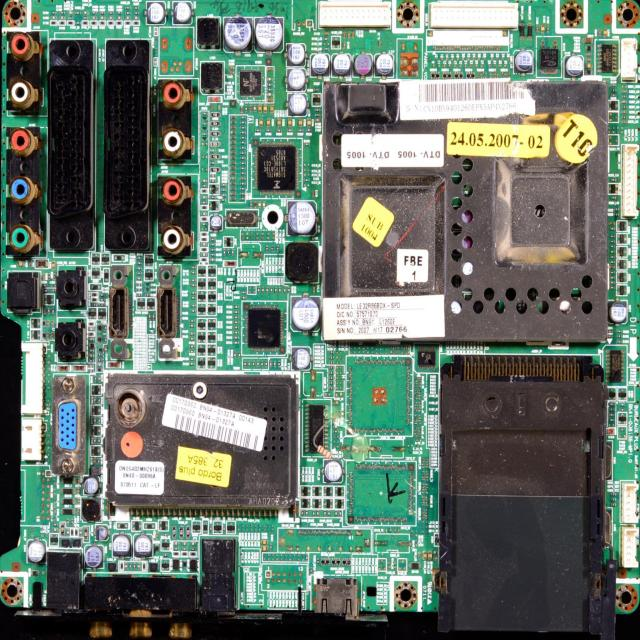Capacitor: (286, 42, 307, 66), (331, 52, 352, 76), (287, 94, 309, 115), (355, 52, 373, 77), (376, 52, 394, 77), (286, 69, 307, 90), (310, 55, 328, 75), (286, 118, 294, 129), (582, 37, 593, 44), (422, 550, 428, 562), (262, 102, 268, 114), (306, 117, 312, 128), (258, 117, 264, 128), (310, 286, 318, 294), (428, 550, 433, 562), (276, 118, 282, 128), (200, 193, 208, 200), (16, 260, 24, 267), (270, 103, 274, 116), (298, 117, 303, 127), (266, 118, 271, 128), (200, 252, 210, 257), (603, 28, 608, 38), (342, 30, 347, 40), (260, 538, 268, 544), (239, 105, 244, 114), (245, 231, 250, 240), (258, 104, 262, 115), (266, 66, 273, 72), (260, 546, 268, 551), (585, 57, 593, 62), (226, 66, 236, 70), (312, 188, 316, 198), (255, 230, 259, 240), (229, 172, 238, 176), (609, 178, 618, 182), (260, 231, 264, 240), (116, 15, 123, 20), (77, 486, 81, 494), (76, 506, 80, 514), (155, 532, 159, 540), (266, 97, 274, 101), (620, 120, 628, 124), (229, 140, 237, 144), (90, 15, 98, 19), (132, 16, 140, 20), (229, 187, 237, 191), (229, 192, 237, 196), (51, 261, 55, 269), (42, 272, 46, 280), (546, 24, 550, 32), (266, 77, 272, 82), (100, 15, 106, 20), (76, 477, 80, 484), (230, 116, 237, 120), (230, 120, 237, 124), (230, 131, 237, 135), (230, 146, 237, 150), (230, 151, 237, 155), (230, 156, 237, 160), (229, 161, 236, 165), (229, 182, 236, 186), (230, 197, 237, 201), (28, 260, 32, 267), (50, 332, 54, 339), (322, 32, 329, 36), (228, 136, 237, 139), (93, 458, 96, 466), (77, 496, 80, 504), (585, 53, 591, 57), (227, 72, 235, 75), (621, 90, 629, 93), (621, 110, 627, 114), (50, 16, 56, 20), (230, 177, 236, 181), (609, 222, 615, 226), (250, 231, 253, 239), (267, 231, 270, 239), (272, 232, 275, 240), (609, 265, 615, 269), (314, 118, 321, 121), (230, 126, 237, 129), (621, 100, 626, 104), (60, 15, 65, 19), (230, 167, 236, 170), (108, 16, 114, 19), (352, 31, 354, 40), (265, 93, 273, 95), (250, 104, 252, 112), (126, 16, 130, 20), (242, 232, 244, 240), (210, 258, 214, 262)
Connector: (47, 43, 99, 256), (2, 34, 51, 257), (114, 49, 152, 244), (156, 81, 198, 254), (88, 577, 194, 639), (426, 2, 522, 29), (312, 575, 363, 623), (316, 0, 392, 30), (18, 338, 42, 412), (21, 419, 46, 464), (621, 36, 639, 81), (620, 479, 638, 523), (622, 524, 640, 568)
IC: (243, 301, 286, 355), (304, 399, 330, 456), (596, 40, 618, 76), (416, 344, 438, 370)
Resistor Network: (310, 509, 316, 518), (238, 181, 248, 186), (264, 243, 269, 253), (296, 128, 304, 134), (607, 402, 616, 407), (134, 265, 143, 270), (187, 318, 196, 323), (231, 340, 240, 345), (240, 294, 247, 300), (189, 294, 196, 300), (300, 508, 304, 518), (333, 510, 338, 518), (66, 516, 70, 526), (122, 5, 130, 10), (286, 129, 294, 134), (239, 140, 247, 145), (607, 249, 615, 254), (134, 272, 144, 276), (134, 277, 144, 281), (134, 288, 144, 292), (232, 334, 240, 339), (188, 343, 196, 348), (188, 355, 196, 360), (322, 508, 326, 517), (316, 509, 320, 518), (305, 552, 309, 561), (264, 128, 273, 132), (304, 142, 310, 148), (614, 206, 620, 212), (105, 270, 108, 282), (190, 308, 196, 314), (616, 328, 622, 334), (181, 546, 188, 551), (239, 125, 246, 130), (190, 264, 197, 269), (98, 296, 105, 301), (233, 314, 240, 319), (188, 330, 195, 335), (271, 243, 274, 254), (276, 244, 279, 255), (332, 429, 340, 433), (132, 562, 136, 570), (313, 108, 321, 112), (312, 113, 320, 117), (50, 10, 58, 14), (254, 129, 262, 133), (239, 161, 247, 165), (68, 15, 76, 19), (302, 179, 310, 183), (200, 222, 208, 226), (135, 282, 143, 286), (282, 286, 286, 294), (274, 286, 278, 294), (188, 303, 196, 307), (232, 330, 240, 334), (188, 337, 196, 341), (252, 358, 255, 368), (328, 386, 334, 391), (240, 115, 246, 120), (240, 171, 246, 176), (240, 196, 246, 201), (136, 255, 142, 260), (136, 260, 142, 265), (234, 319, 240, 324), (188, 348, 194, 353), (88, 348, 94, 353), (328, 360, 335, 364), (256, 360, 260, 367), (128, 561, 132, 568), (239, 151, 246, 155), (220, 182, 227, 186), (220, 188, 227, 192), (189, 278, 196, 282), (190, 283, 197, 287), (190, 290, 197, 294), (233, 326, 240, 330), (88, 337, 95, 341), (328, 350, 335, 354), (328, 355, 335, 359), (273, 359, 276, 368), (71, 517, 74, 526), (189, 361, 194, 366), (210, 237, 215, 242), (248, 359, 251, 367), (328, 365, 334, 369), (88, 368, 94, 372), (328, 371, 334, 375), (97, 397, 101, 403), (608, 412, 614, 416), (339, 509, 342, 517), (190, 546, 196, 550), (309, 566, 312, 574), (610, 82, 616, 86), (266, 88, 272, 92), (76, 10, 80, 16), (134, 11, 140, 15), (276, 128, 282, 132), (240, 131, 246, 135), (240, 136, 246, 140), (238, 167, 246, 170), (239, 177, 247, 180), (201, 184, 207, 188), (219, 193, 227, 196), (210, 195, 216, 199), (76, 20, 80, 26), (608, 227, 614, 231), (609, 234, 615, 238), (201, 242, 207, 246), (210, 243, 216, 247), (227, 248, 230, 256), (609, 260, 615, 264), (610, 269, 616, 273), (190, 270, 194, 276), (266, 286, 269, 294), (270, 286, 273, 294), (134, 292, 140, 296), (145, 292, 151, 296), (99, 292, 105, 296), (51, 308, 55, 314), (188, 324, 194, 328), (607, 328, 613, 332), (606, 335, 614, 338), (616, 334, 622, 338), (238, 350, 241, 358), (234, 351, 237, 359), (88, 358, 94, 362), (261, 360, 264, 367), (96, 368, 103, 371), (93, 437, 96, 444), (97, 457, 100, 464), (107, 12, 114, 15), (239, 187, 246, 190), (239, 192, 246, 195), (231, 248, 234, 255), (223, 248, 226, 255), (48, 307, 51, 314), (233, 310, 240, 313), (148, 313, 151, 320), (620, 403, 625, 407), (97, 438, 101, 443), (134, 6, 139, 10), (116, 10, 121, 14), (614, 213, 619, 217), (209, 247, 214, 251), (279, 285, 281, 295), (92, 292, 97, 296), (234, 304, 239, 308), (88, 364, 94, 367), (328, 376, 334, 379), (619, 407, 625, 410), (608, 418, 614, 421), (328, 508, 330, 517), (270, 543, 273, 549), (172, 547, 178, 550), (266, 83, 272, 86), (59, 11, 65, 14), (124, 12, 130, 15), (240, 146, 246, 149), (240, 157, 246, 160), (220, 198, 226, 201), (201, 201, 207, 204), (202, 213, 208, 216), (608, 245, 614, 248), (609, 255, 615, 258), (609, 276, 615, 279), (609, 281, 615, 284), (288, 285, 290, 294), (240, 290, 246, 293), (616, 340, 622, 343), (97, 353, 103, 356), (97, 358, 103, 361), (244, 359, 246, 367), (266, 360, 268, 368), (306, 508, 308, 516), (245, 104, 247, 112), (43, 283, 47, 287), (262, 286, 264, 294), (258, 286, 260, 294), (153, 312, 155, 320), (92, 303, 97, 306), (94, 396, 96, 403), (270, 361, 272, 367), (328, 382, 334, 384), (94, 417, 96, 423), (98, 417, 100, 423), (52, 523, 58, 525), (610, 94, 616, 96), (91, 12, 97, 14), (100, 11, 104, 14), (306, 129, 312, 131), (610, 240, 614, 243), (211, 252, 215, 255), (610, 286, 614, 289), (91, 298, 97, 300), (88, 328, 94, 330), (240, 122, 245, 124)
Transistor: (606, 347, 627, 383), (615, 219, 627, 232), (49, 532, 60, 546), (615, 257, 627, 269), (331, 36, 341, 50), (226, 520, 236, 534), (144, 268, 154, 282), (616, 233, 628, 244), (29, 318, 41, 329), (207, 318, 217, 331), (214, 520, 223, 534), (198, 264, 207, 278), (208, 264, 217, 278), (616, 284, 627, 295), (196, 356, 206, 368), (90, 406, 102, 416), (323, 485, 333, 497), (197, 278, 207, 290), (207, 278, 217, 290), (206, 332, 216, 344), (607, 386, 616, 399), (618, 387, 627, 400), (161, 537, 170, 550), (161, 558, 170, 571), (144, 254, 153, 267), (91, 385, 102, 395), (90, 445, 101, 455), (191, 521, 201, 532), (608, 183, 618, 194), (616, 272, 627, 282), (196, 304, 207, 314), (206, 344, 216, 355), (207, 291, 216, 303), (197, 344, 206, 356), (91, 425, 101, 435), (312, 486, 322, 496), (608, 100, 618, 110), (616, 246, 626, 256), (301, 486, 312, 495), (335, 498, 344, 509), (312, 94, 321, 105), (137, 298, 146, 309), (618, 413, 626, 425), (92, 253, 100, 265), (102, 253, 110, 265), (92, 266, 100, 278), (198, 318, 206, 330), (30, 331, 42, 339), (335, 486, 344, 496), (301, 498, 311, 507), (312, 498, 321, 508), (323, 499, 333, 508), (132, 520, 141, 530), (207, 357, 215, 368), (146, 298, 154, 309), (98, 308, 106, 319), (89, 308, 96, 320), (207, 305, 216, 314), (160, 520, 168, 530), (198, 292, 206, 302), (198, 332, 205, 342)
